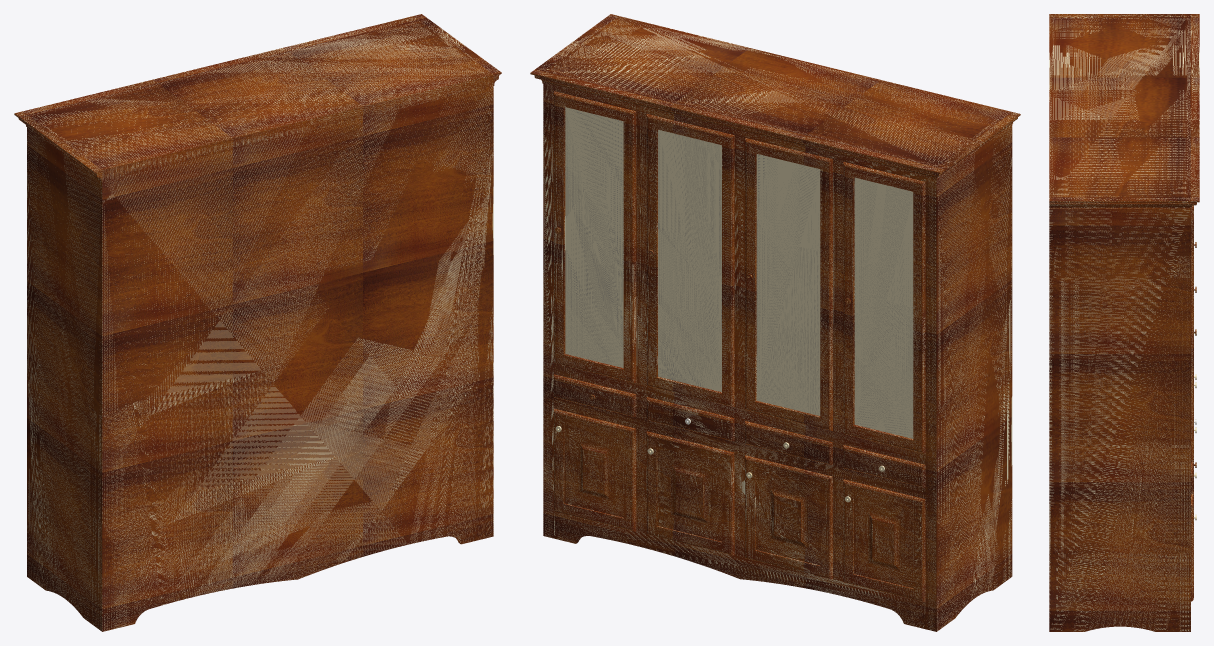
3 views of the same model, side by side, from view 1: azimuth 30°, elevation 25°; view 2: azimuth 150°, elevation 25°; view 3: azimuth 270°, elevation 25° (orthographic). The views are drawn at different scales.
Parts seen in each view (by area): view 1: mesh2_mesh2-geometry; view 2: mesh2_mesh2-geometry; view 3: mesh2_mesh2-geometry.
Part boxes in pixels (left/top/right/bottom): mesh2_mesh2-geometry: left=14, top=14, right=501, bottom=631; mesh2_mesh2-geometry: left=530, top=14, right=1020, bottom=631; mesh2_mesh2-geometry: left=1049, top=14, right=1199, bottom=631.
Bounding box in the file's own units: 0.6609 × 0.716 × 0.2247.
